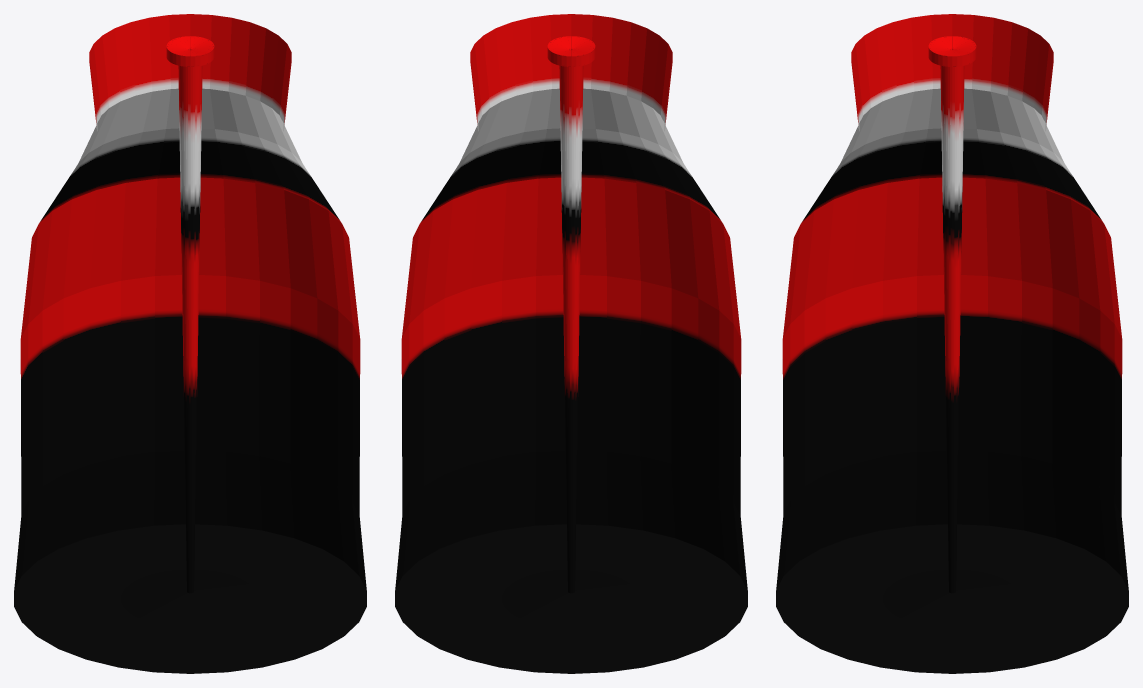
The picture shows the model from 3 angles, left to right: view 1: azimuth 30°, elevation 25°; view 2: azimuth 150°, elevation 25°; view 3: azimuth 270°, elevation 25°; orthographic projection.
Parts seen in each view (by area): view 1: algeomath; view 2: algeomath; view 3: algeomath.
Boxes of the visible parts, box(x1,y1,x2,y2) form: algeomath: box(14, 14, 366, 673); algeomath: box(395, 14, 747, 673); algeomath: box(776, 14, 1128, 673).
Size of the model in its own units: 3.65 by 6.28 by 3.63.
Materials: 1 (1 with a texture image).
